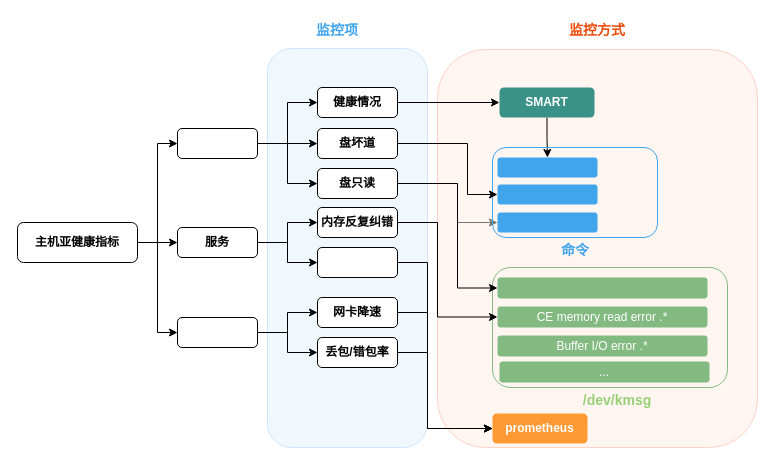
The diagram is 775 pixels wide and 465 high, and some of its shapes have lost their labels. The shapes that lost their labels are listed below. From the top down, each one's box as (x1, y1, x2, y2) in pixels, then its label:
(176, 128, 258, 158): 硬盘
(497, 157, 597, 177): smartctl
(497, 184, 597, 204): badblock
(497, 212, 597, 232): mount | grep " / "
(316, 246, 398, 278): 进程/服务访问时延异常
(497, 277, 707, 298): Remounting filesystem read-only
(176, 316, 258, 348): 网络
